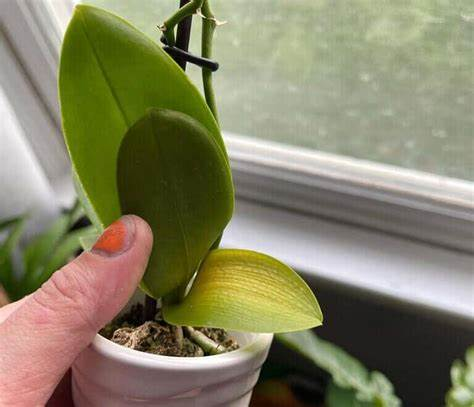orchid leaf: (36, 3, 243, 301)
